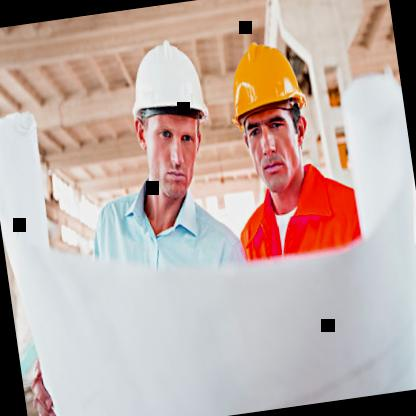helmet: (104, 16, 224, 219), (218, 14, 332, 207)
